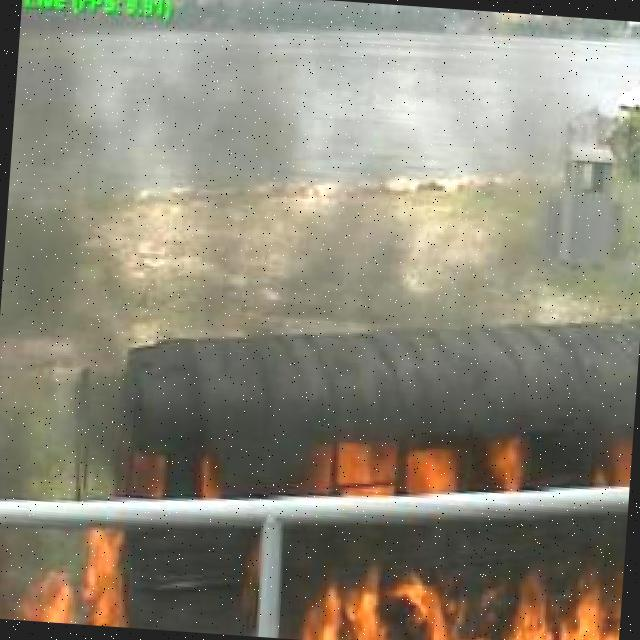Fire: (305, 537, 624, 640), (297, 443, 498, 515), (0, 523, 137, 627), (477, 423, 633, 487), (124, 447, 232, 502)
